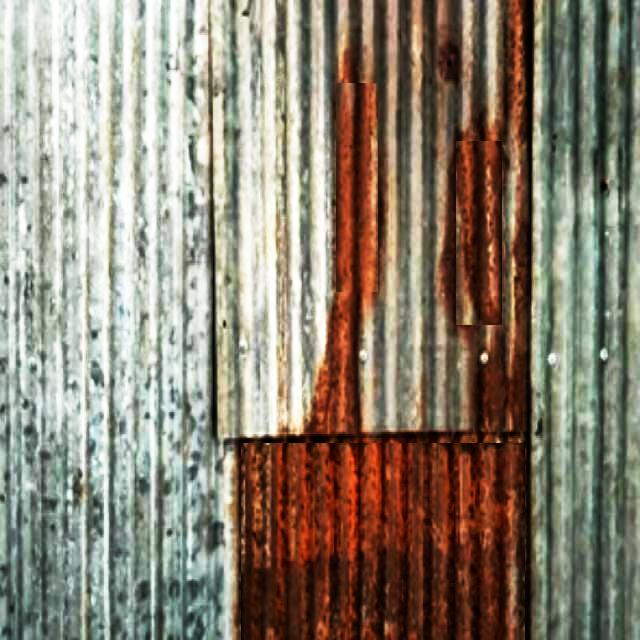Corrosion: (241, 434, 528, 640), (310, 54, 379, 433), (457, 140, 503, 326), (472, 326, 528, 432), (505, 0, 531, 174), (506, 197, 531, 326), (439, 41, 460, 80)
